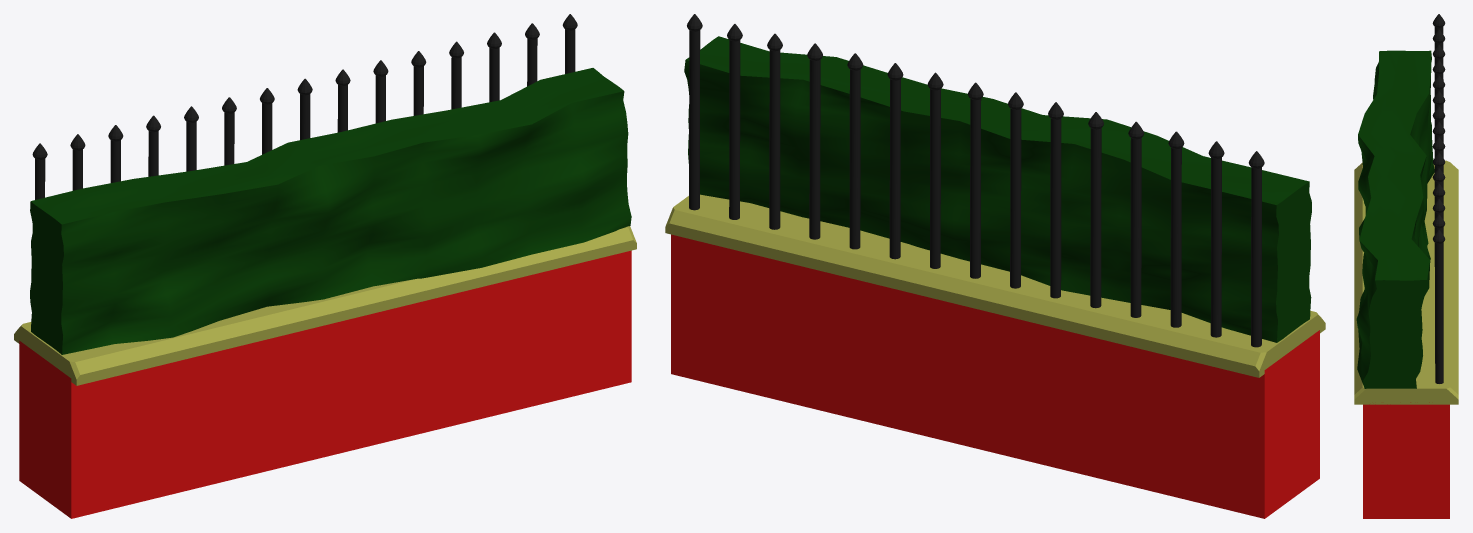
The model's file is wall.FBX.
3 renders of one model, left to right at view 1: azimuth 30°, elevation 25°; view 2: azimuth 150°, elevation 25°; view 3: azimuth 270°, elevation 25°, orthographic. The views are drawn at different scales.
Visible parts, largest first — view 1: Box003, Box002, Box001, Cylinder013; view 2: Box002, Box003, Cylinder013, Box001; view 3: Box003, Box002, Box001, Cylinder013.
Part boxes in pixels (x1,y1,x2,y2): Box003: [30, 68, 631, 354]; Box002: [19, 250, 631, 518]; Box001: [14, 226, 636, 385]; Cylinder013: [32, 14, 577, 199]; Box002: [671, 234, 1319, 518]; Box003: [684, 36, 1311, 342]; Cylinder013: [687, 14, 1264, 347]; Box001: [665, 194, 1325, 377]; Box003: [1356, 50, 1434, 388]; Box002: [1363, 402, 1449, 518]; Box001: [1354, 160, 1458, 404]; Cylinder013: [1432, 14, 1445, 383].
Size of the model in its own units: 320 by 185 by 61.91.
